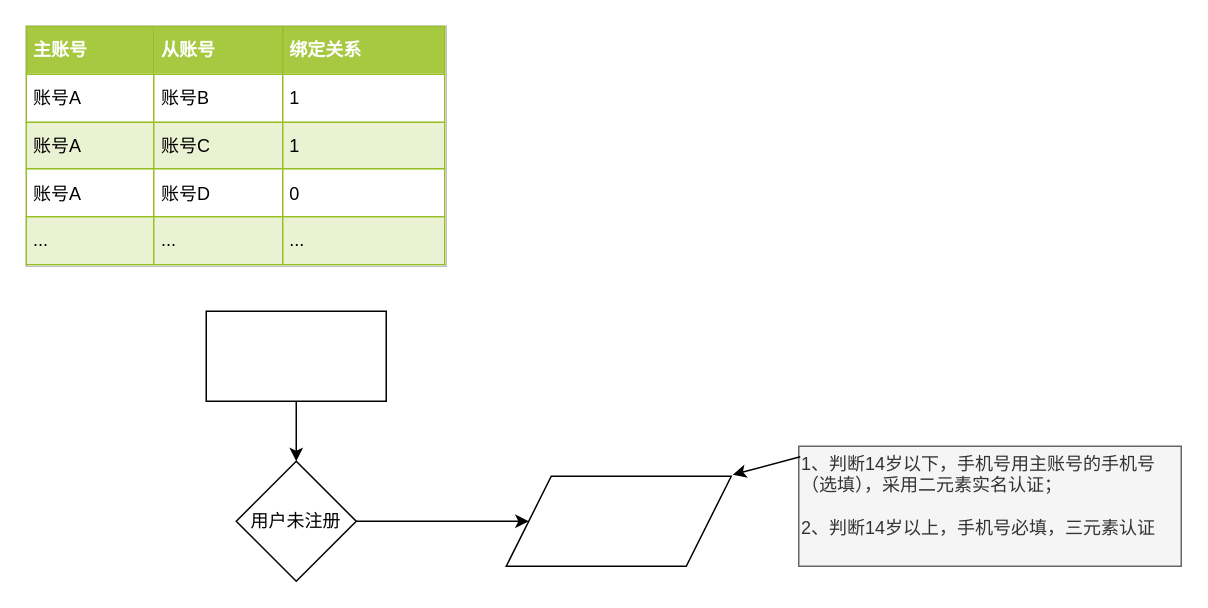
This 1208x608 diagram has some shape labels left out. Each missing label, with the centre of its shape:
主账号A绑定成员: (x=295, y=355)
绑定（注册+实名）: (x=618, y=520)
